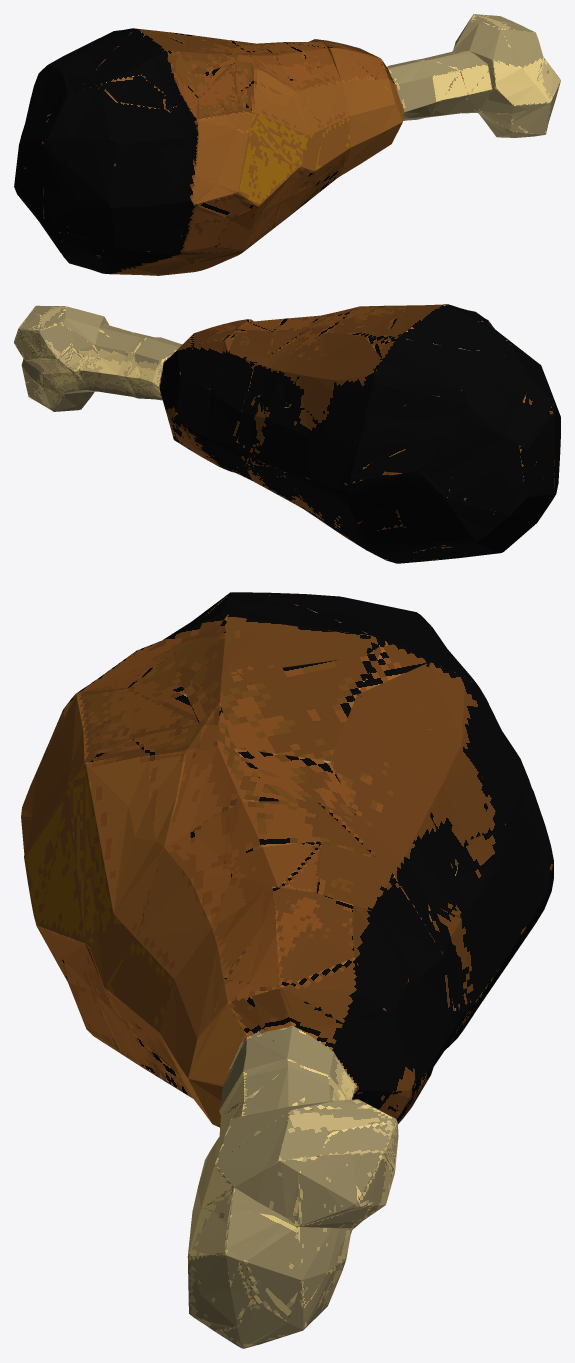
3 views of the same model, one above another, from view 1: azimuth 30°, elevation 25°; view 2: azimuth 150°, elevation 25°; view 3: azimuth 270°, elevation 25° (orthographic). The views are drawn at different scales.
Parts seen in each view (by area): view 1: OBJ0b0; view 2: OBJ0b0; view 3: OBJ0b0.
Part boxes in pixels (x1,y1,x2,y2): OBJ0b0: [14, 14, 560, 275]; OBJ0b0: [14, 304, 560, 563]; OBJ0b0: [21, 592, 553, 1348].
Size of the model in its own units: 0.2834 by 0.1223 by 0.1279.
1 material, 1 textured.
